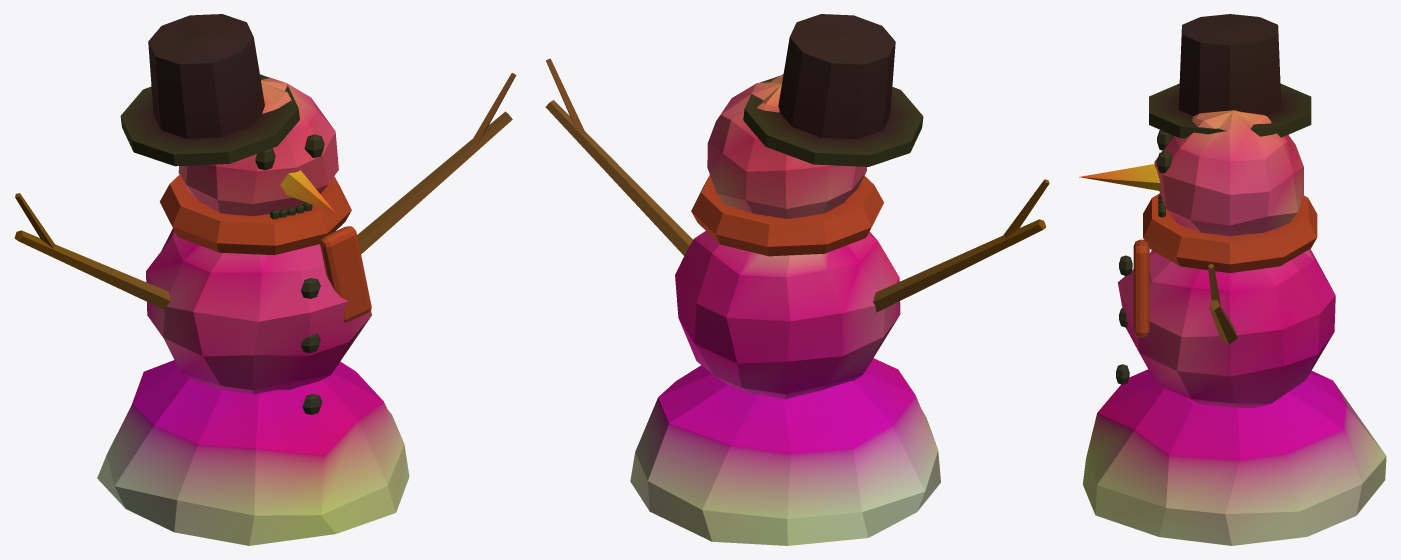
Rendered from Snowman_01.glb.
The picture shows the model from 3 angles, left to right: view 1: azimuth 30°, elevation 25°; view 2: azimuth 150°, elevation 25°; view 3: azimuth 270°, elevation 25°; orthographic projection. The views are drawn at different scales.
Visible parts, largest first — view 1: Snowman_01; view 2: Snowman_01; view 3: Snowman_01.
Part boxes in pixels (x1,y1,x2,y2): Snowman_01: [14, 14, 516, 545]; Snowman_01: [545, 14, 1049, 545]; Snowman_01: [1079, 14, 1386, 545].
Size of the model in its own units: 1.74 by 1.52 by 0.9753.
